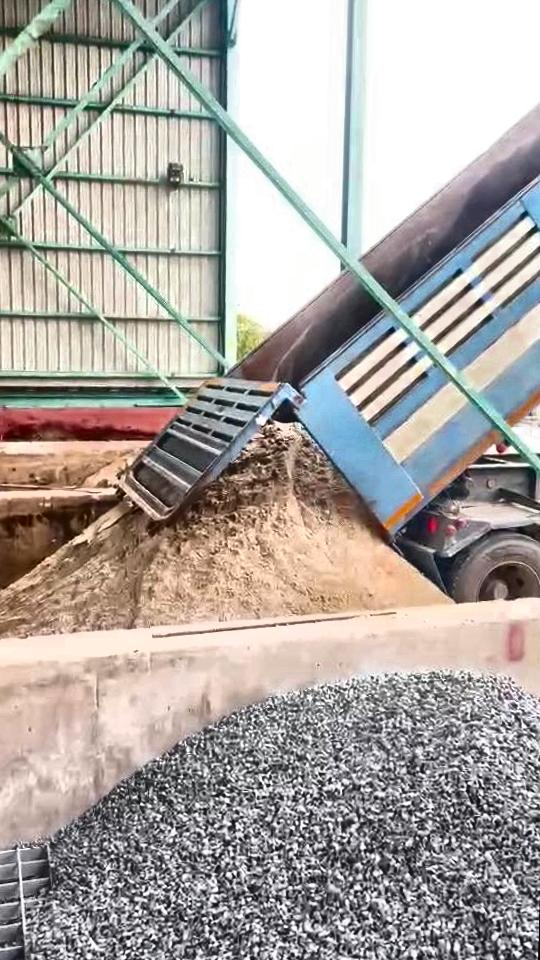gravel: (21, 672, 540, 960)
sand: (0, 424, 449, 640), (80, 449, 137, 488)
